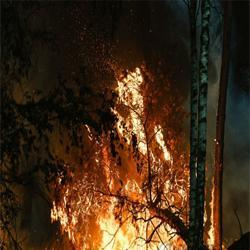fire: (98, 213, 174, 249), (119, 71, 150, 147)
